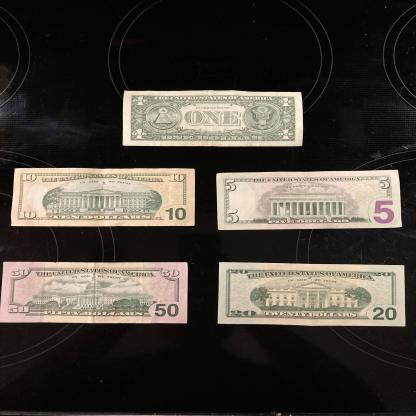fifty-back: (0, 262, 189, 323)
five-back: (216, 168, 403, 230)
one-back: (122, 90, 304, 146)
ten-back: (11, 168, 196, 227)
twenty-back: (216, 262, 406, 327)
